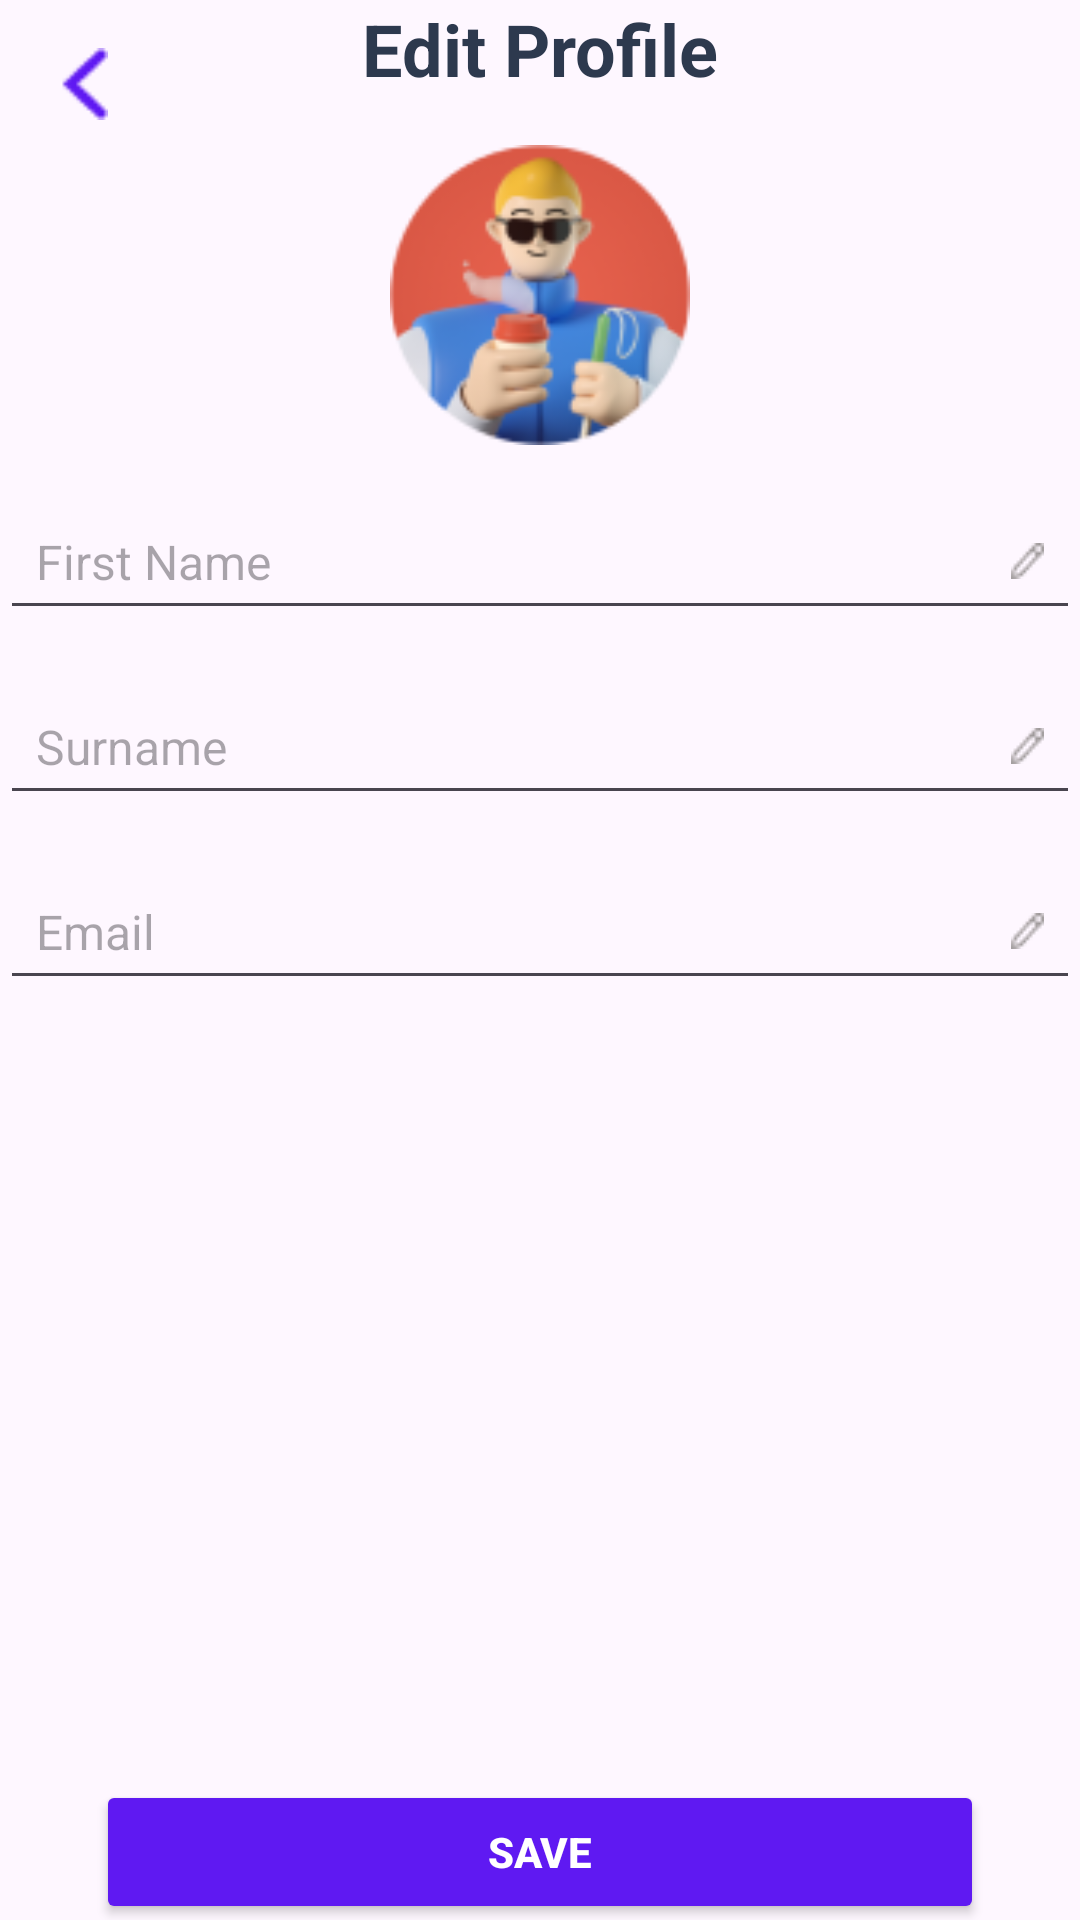

Icon click points for this 1080×1920 phone screenshot, format (x=x, y=y):
Back: (x=85, y=84)
profilepic: (x=540, y=295)
